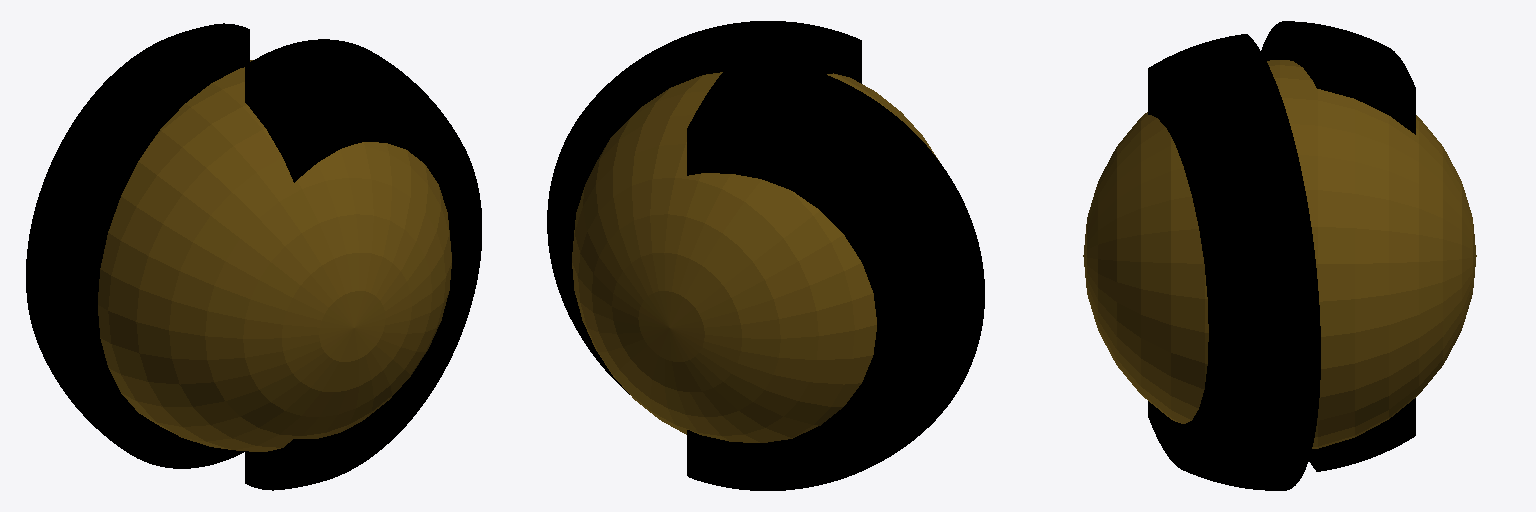
The model's file is combiner.obj.
3 views of the same model, side by side, from view 1: azimuth 30°, elevation 25°; view 2: azimuth 150°, elevation 25°; view 3: azimuth 270°, elevation 25° (orthographic).
Visible parts, largest first — view 1: Sphere.002_1, Sphere.002; view 2: Sphere.002, Sphere.002_1; view 3: Sphere.002_1, Sphere.002.
Boxes of the visible parts, box(x1,y1,x2,y2) form: Sphere.002_1: box(98, 60, 451, 451); Sphere.002: box(26, 23, 481, 490); Sphere.002: box(547, 21, 984, 490); Sphere.002_1: box(572, 72, 939, 442); Sphere.002_1: box(1083, 60, 1476, 448); Sphere.002: box(1148, 21, 1415, 490).
Size of the model in its own units: 0.0149 by 0.0148 by 0.0125.